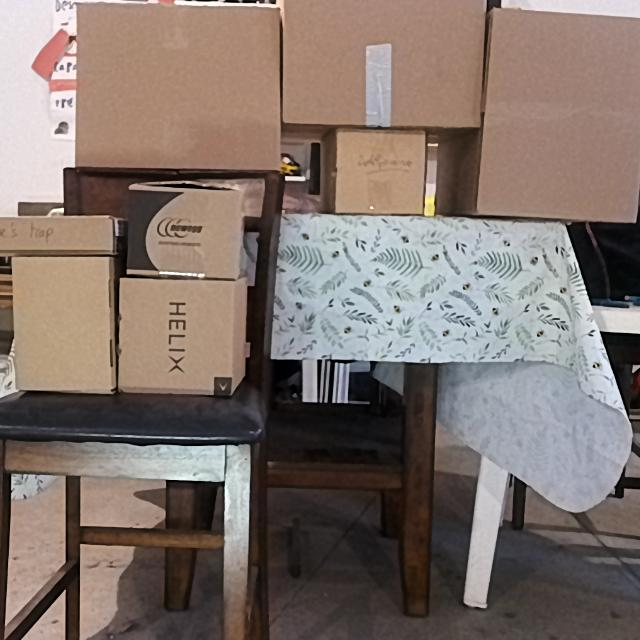box: (76, 2, 280, 168), (478, 8, 640, 215), (282, 0, 482, 124), (10, 255, 114, 393), (121, 278, 236, 397), (129, 185, 237, 277), (335, 128, 423, 212), (0, 215, 115, 254)
